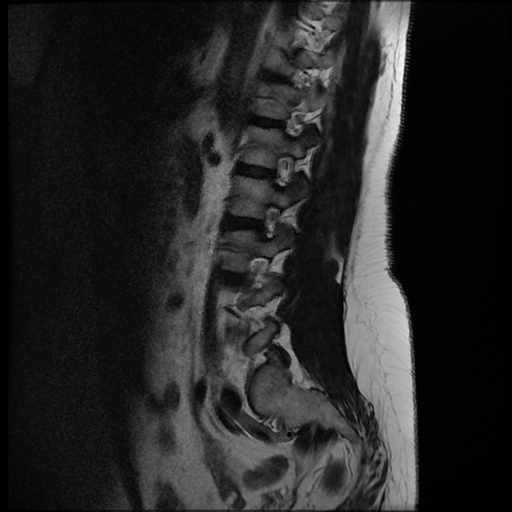LFS0: (262, 145, 298, 195), (249, 197, 285, 244)
